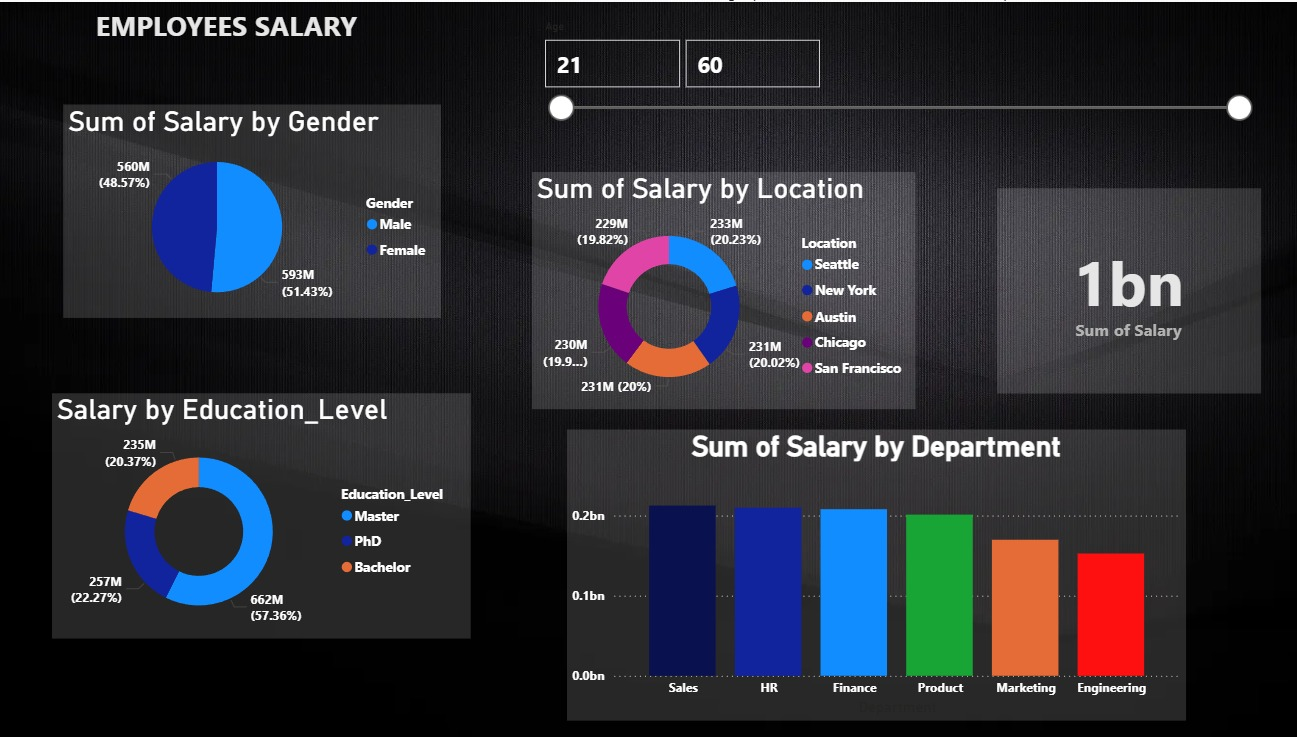

The page's visual inventory and layout, read from the dashboard file:
{"tool":"powerbi","page":{"name":"Page 1","canvas":[1280,720],"ordinal":0},"visuals":[{"type":"textbox","box":[0,0,448.8,64.8],"z":0},{"type":"pieChart","fields":{"Y":["Sum(employee_salary.Salary)"],"Category":["employee_salary.Gender"]},"box":[64.8,100.3,369.3,209.1],"z":1000},{"type":"donutChart","fields":{"Category":["employee_salary.Location"],"Y":["Sum(employee_salary.Salary)"]},"box":[523.4,166.3,375.4,232.3],"z":2000},{"type":"donutChart","title":" Salary by Education_Level","fields":{"Category":["employee_salary.Education_Level"],"Y":["Sum(employee_salary.Salary)"]},"box":[53.8,382.7,409.6,239.7],"z":3000},{"type":"columnChart","fields":{"Category":["employee_salary.Department"],"Y":["Sum(employee_salary.Salary)"]},"box":[557.6,418.2,605.3,284.9],"z":4000},{"type":"card","fields":{"Values":["Sum(employee_salary.Salary)"]},"box":[978.3,182.2,258,200.5],"z":5000},{"type":"slicer","fields":{"Values":["employee_salary.Age"]},"box":[523.4,12.2,712.9,139.4],"z":6000}]}

Visuals, with their boxes in screenshot pixels (x1, y1, x2, y2), scaled from the page's 1280x720 canvas onto the 1297x737 screenshot:
textbox: {"x1": 0, "y1": 0, "x2": 455, "y2": 66}
pieChart - Sum(employee_salary.Salary) x employee_salary.Gender: {"x1": 66, "y1": 103, "x2": 440, "y2": 317}
donutChart - employee_salary.Location x Sum(employee_salary.Salary): {"x1": 530, "y1": 170, "x2": 911, "y2": 408}
" Salary by Education_Level" donutChart: {"x1": 55, "y1": 392, "x2": 470, "y2": 637}
columnChart - employee_salary.Department x Sum(employee_salary.Salary): {"x1": 565, "y1": 428, "x2": 1178, "y2": 720}
card - Sum(employee_salary.Salary): {"x1": 991, "y1": 187, "x2": 1253, "y2": 392}
slicer - employee_salary.Age: {"x1": 530, "y1": 12, "x2": 1253, "y2": 155}
